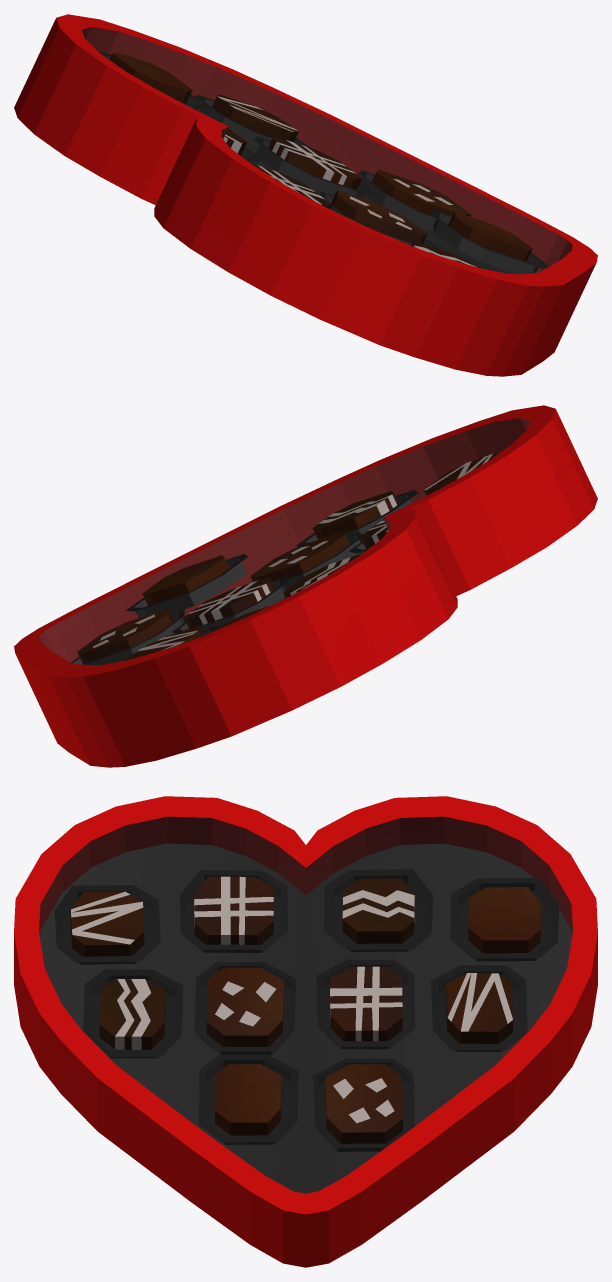
Rendered from BOX OF CHOCOLATES HAT.fbx.
The picture shows the model from 3 angles, top to bottom: view 1: azimuth 30°, elevation 25°; view 2: azimuth 150°, elevation 25°; view 3: azimuth 270°, elevation 25°; orthographic projection. The views are drawn at different scales.
Parts seen in each view (by area): view 1: BOX_OF_CHOCOLATES_HAT; view 2: BOX_OF_CHOCOLATES_HAT; view 3: BOX_OF_CHOCOLATES_HAT.
Boxes of the visible parts, x1,y1,x2,y2 form: BOX_OF_CHOCOLATES_HAT: [14, 14, 597, 376]; BOX_OF_CHOCOLATES_HAT: [14, 405, 597, 767]; BOX_OF_CHOCOLATES_HAT: [14, 796, 597, 1267].
Bounding box in the file's own units: 22.55 × 14.99 × 26.54.
